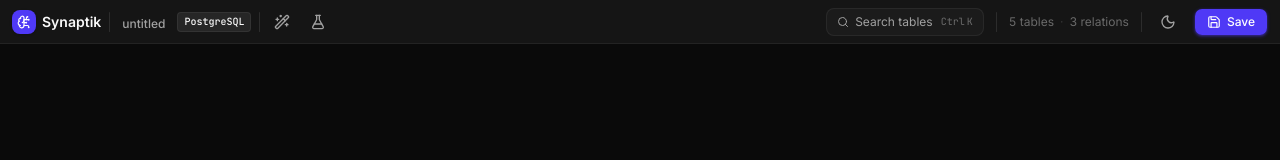
FlowToolbar › commits the new name when valid
Step 1. Double-click the button with aria-label "rename project" → (144, 24), box x1=118 y1=16 x2=169 y2=32
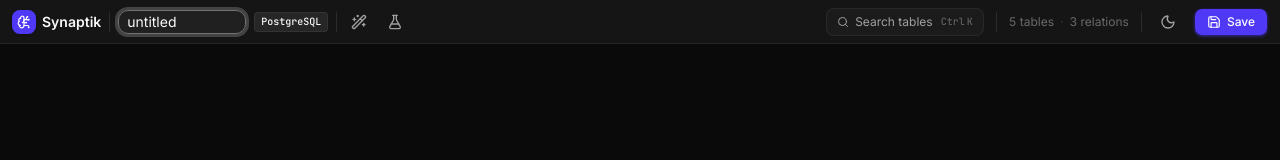
Step 2. Replace the text in the field with "New Project" → (182, 22), box x1=118 y1=10 x2=246 y2=34
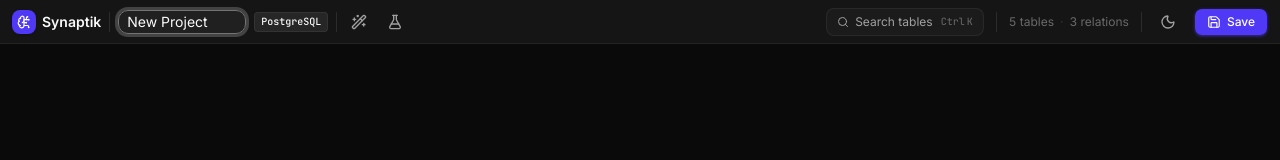
Step 3. Press Enter in the field, box x1=118 y1=10 x2=246 y2=34
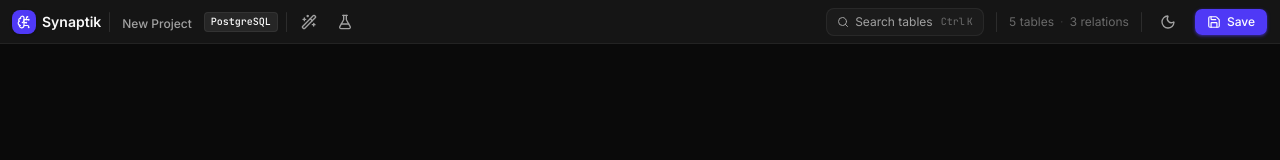
Result: the field is gone
Result: the button "New Project" is shown at x1=118 y1=16 x2=196 y2=32
